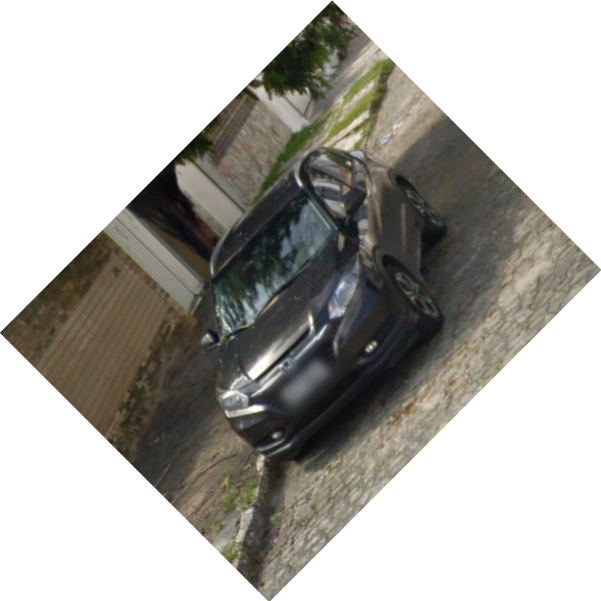car: (197, 141, 456, 471)
